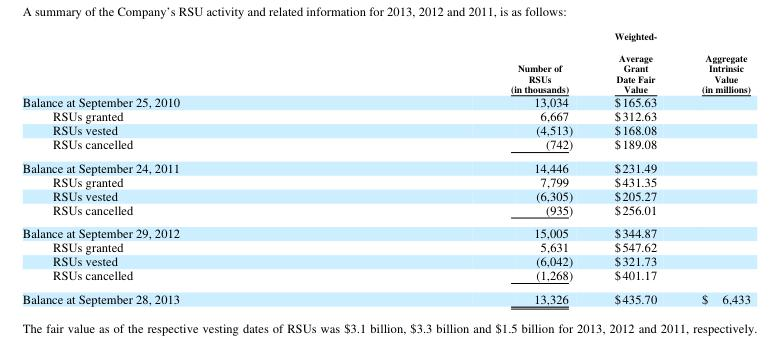table: (21, 29, 749, 306)
table column: (21, 29, 344, 306), (344, 29, 592, 306), (592, 29, 678, 306), (678, 29, 749, 306)
table column header: (21, 29, 749, 94)
table row: (21, 29, 749, 94), (21, 286, 749, 306), (21, 136, 749, 155), (21, 155, 749, 174), (21, 220, 749, 239), (21, 267, 749, 286), (21, 202, 749, 220), (21, 94, 749, 108), (21, 108, 749, 122), (21, 122, 749, 136), (21, 174, 749, 188), (21, 188, 749, 202), (21, 239, 749, 253), (21, 253, 749, 267)
